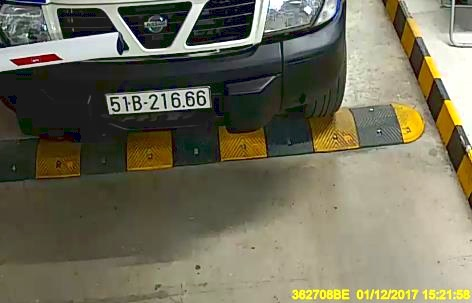plate: (102, 85, 211, 115)
